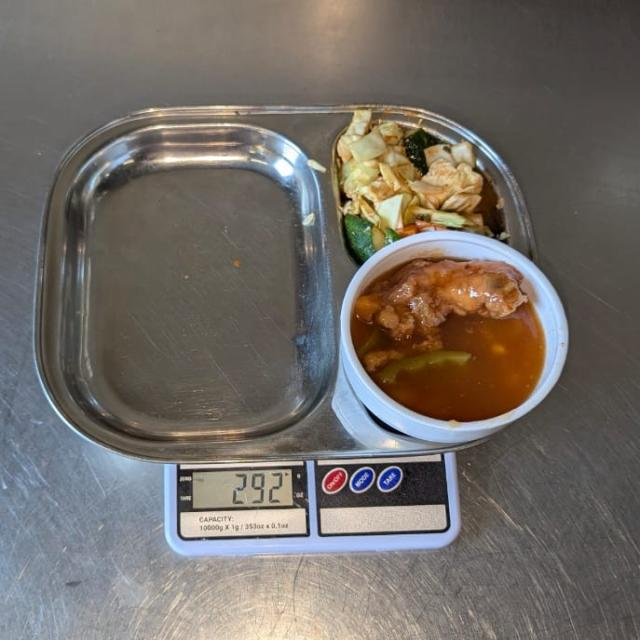Chicken Curry: (350, 250, 550, 424)
Salad: (339, 107, 498, 255)
